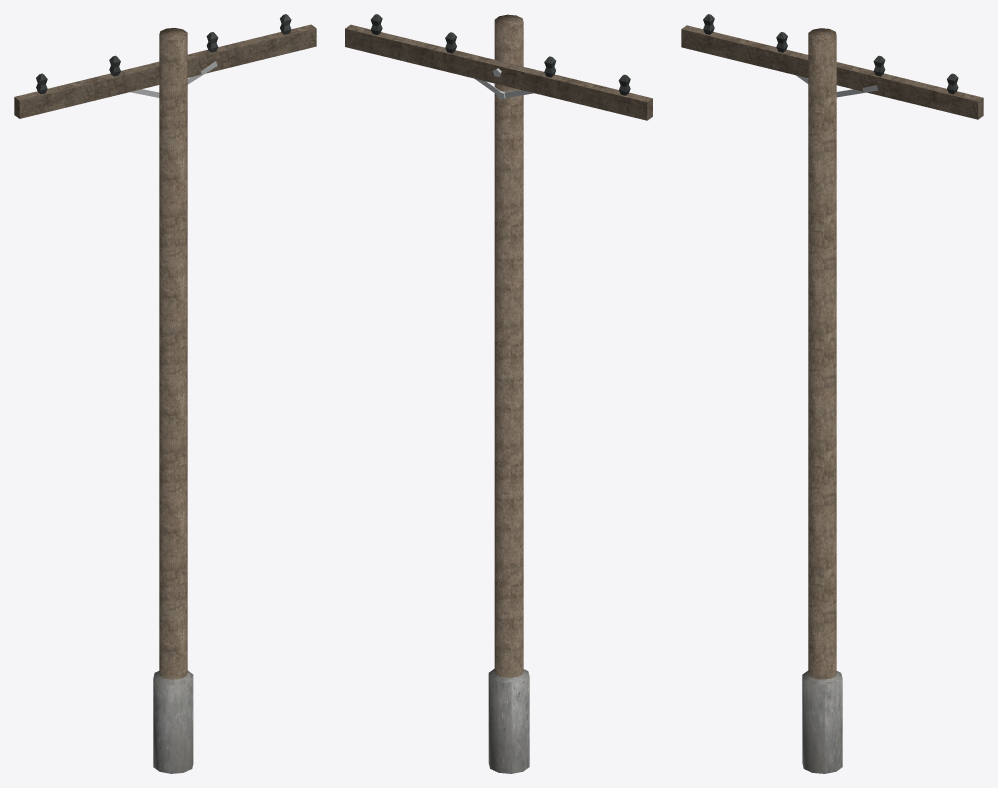
Rendered from base_wood_pole.glb.
3 views of the same model, side by side, from view 1: azimuth 30°, elevation 25°; view 2: azimuth 150°, elevation 25°; view 3: azimuth 330°, elevation 25° (orthographic).
Parts seen in each view (by area): view 1: BaseWoodPole_BaseWoodPole_0; view 2: BaseWoodPole_BaseWoodPole_0; view 3: BaseWoodPole_BaseWoodPole_0.
Part boxes in pixels (<box>): BaseWoodPole_BaseWoodPole_0: <box>14,14,316,773</box>; BaseWoodPole_BaseWoodPole_0: <box>345,14,652,773</box>; BaseWoodPole_BaseWoodPole_0: <box>681,14,983,773</box>.
Size of the model in its own units: 212 by 500 by 29.08.
1 material, 1 textured.
